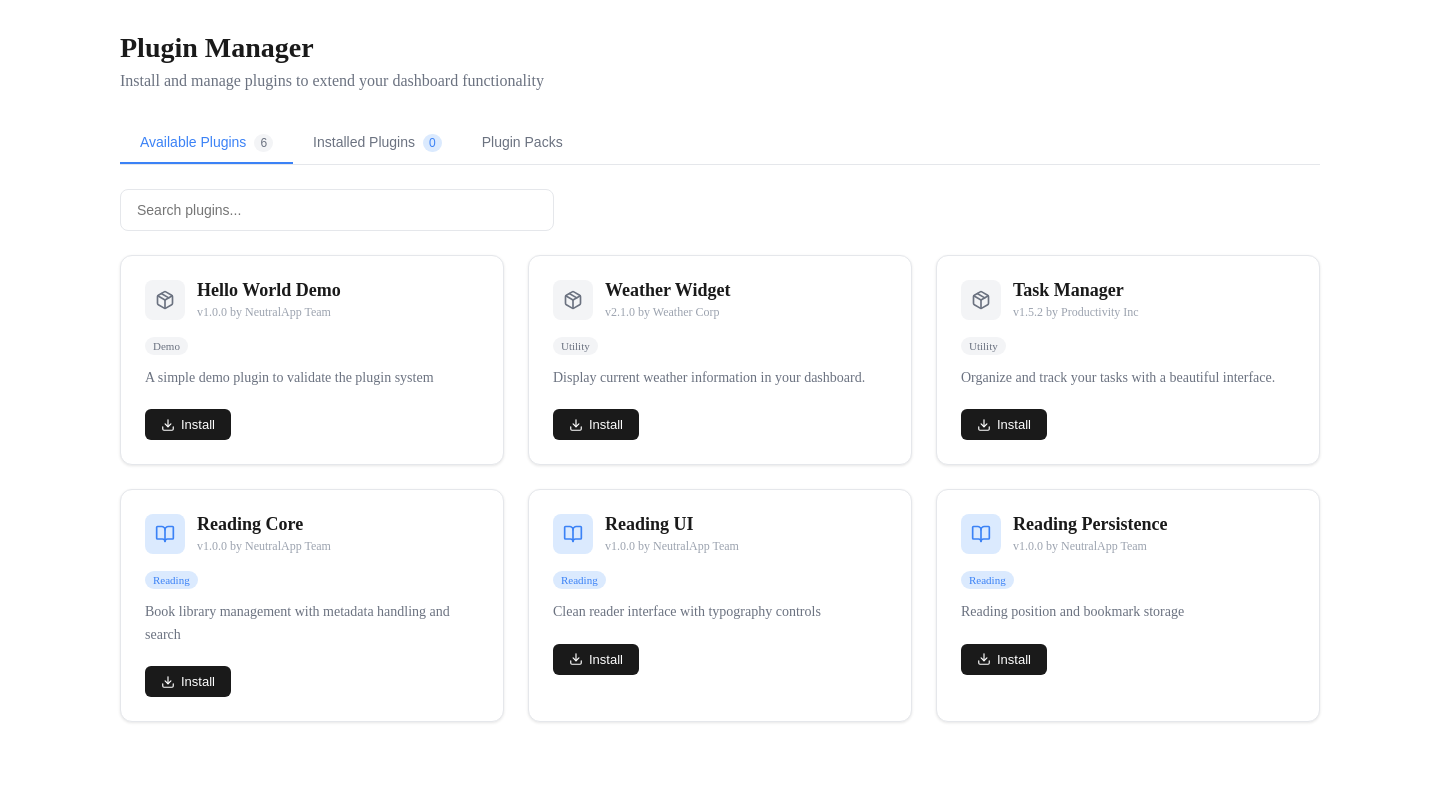
it: Plugin Manager Acceptance Tests › Feature 5: Error Handling & Edge Cases › Acceptance Criteria 5.1: Network Failure Handling › should show error toast for installation failures
Expected: the heading "Hello World Demo" is shown, [197, 280, 341, 301]
Click the button "Install" below "Hello World Demo": (188, 425) [145, 409, 231, 440]
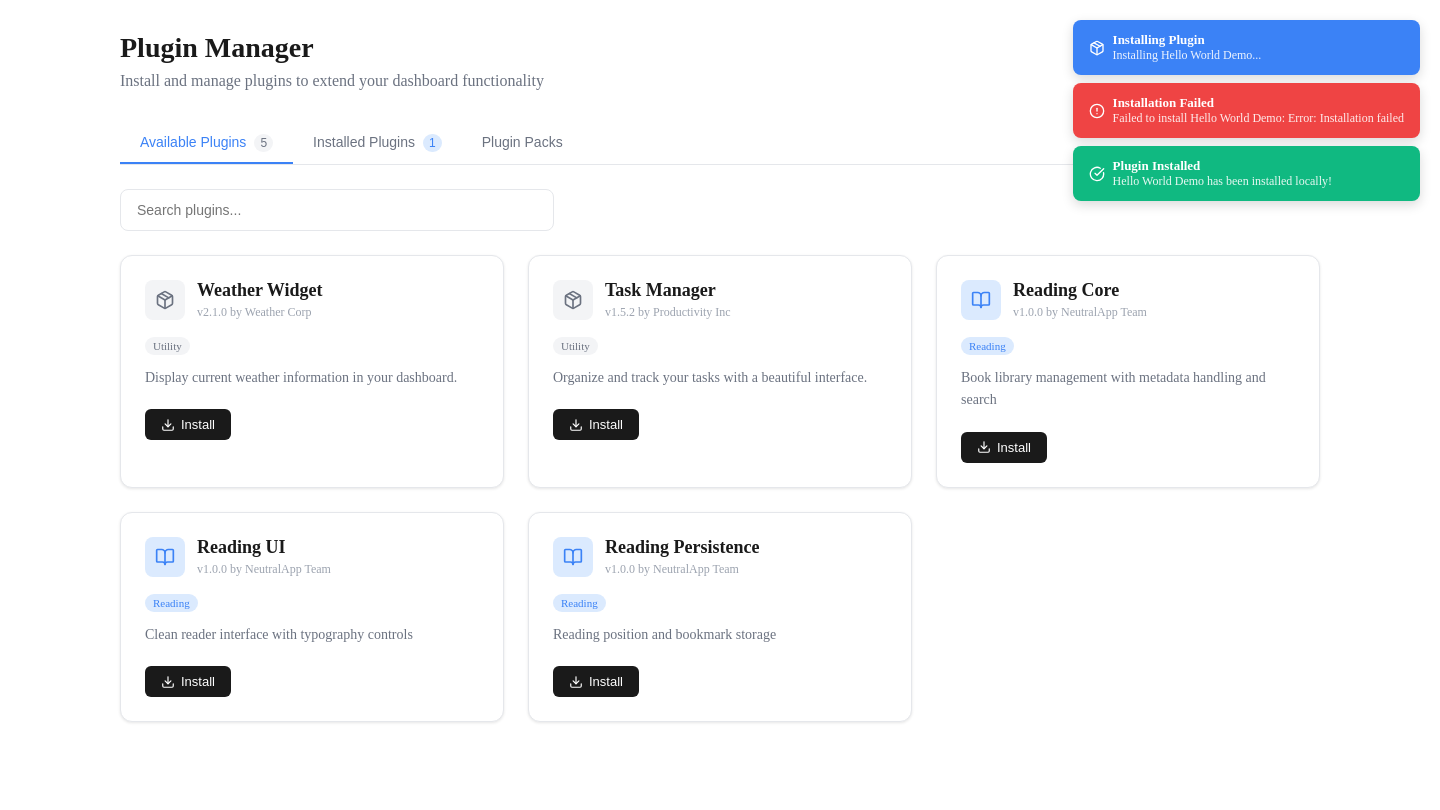
Expected: the text "Installation Failed" is shown, [1113, 95, 1214, 110]
